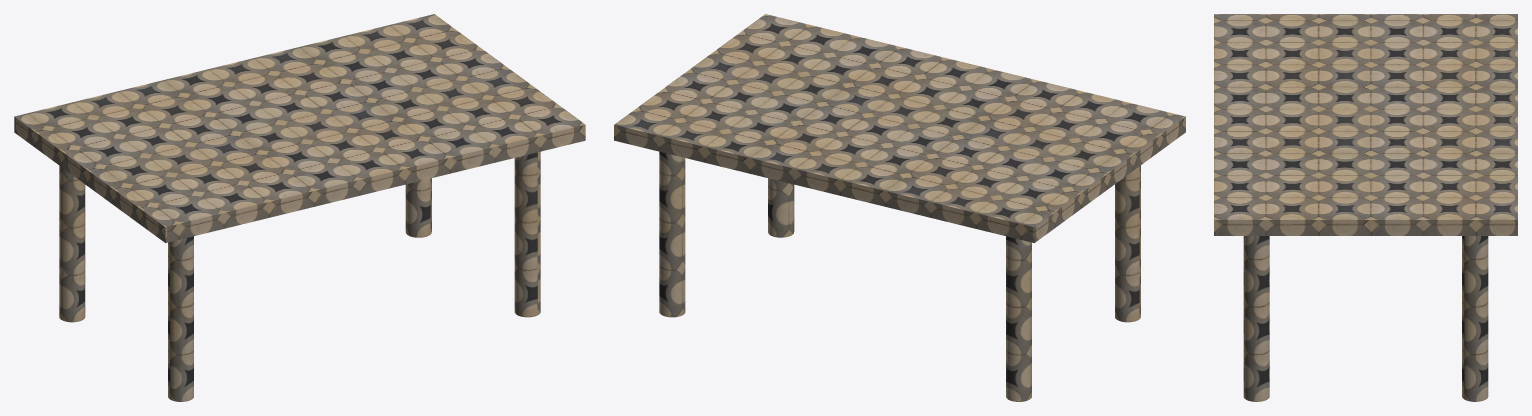
File: table.obj
3 renders of one model, left to right at view 1: azimuth 30°, elevation 25°; view 2: azimuth 150°, elevation 25°; view 3: azimuth 270°, elevation 25°, orthographic.
Visible parts, largest first — view 1: FormFonts_001; view 2: FormFonts_001; view 3: FormFonts_001.
Boxes of the visible parts, x1,y1,x2,y2 form: FormFonts_001: (14, 14, 585, 401); FormFonts_001: (614, 14, 1185, 401); FormFonts_001: (1214, 14, 1517, 401).
Bounding box in the file's own units: 74.38 × 32.75 × 46.38.
